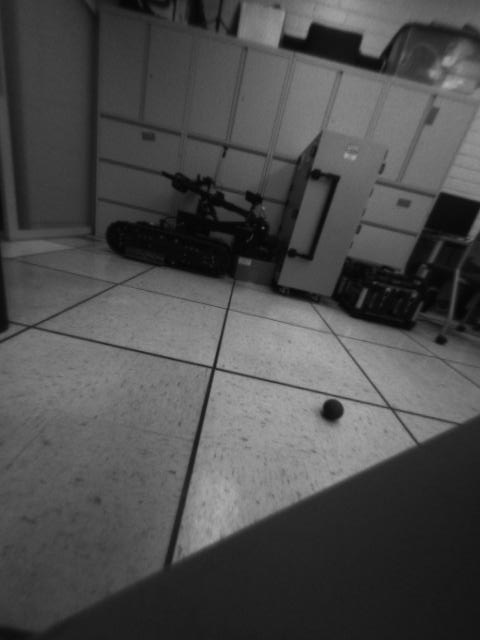dogtoy: (317, 390, 351, 430)
